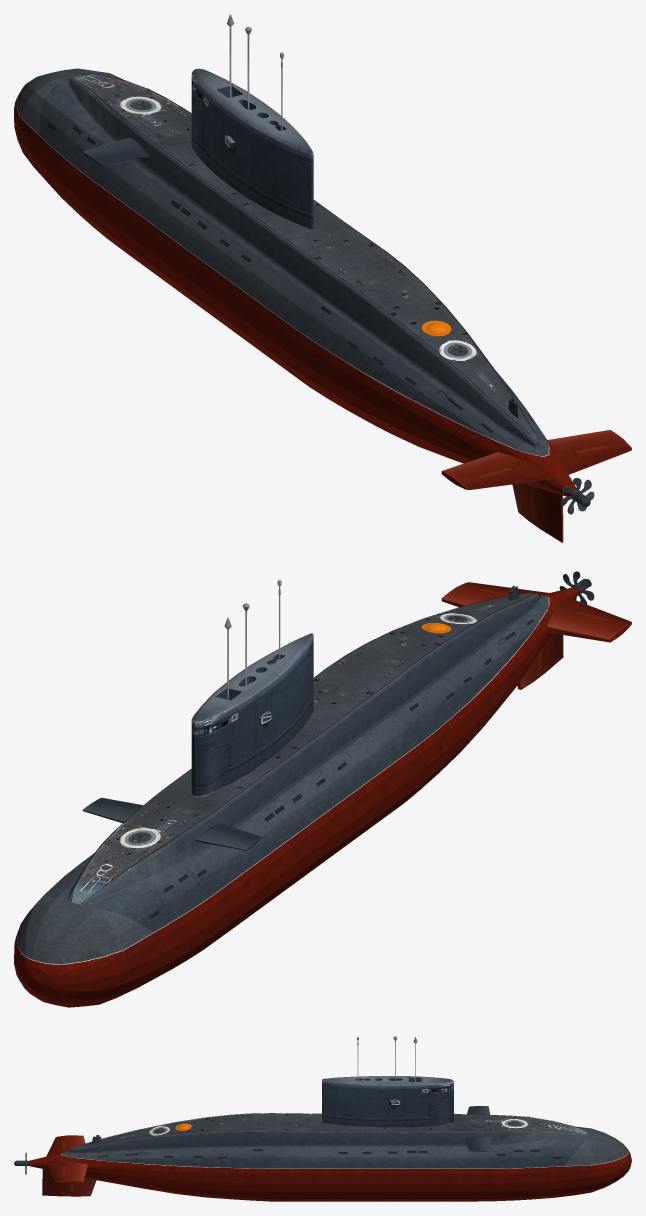
Rendered from submarine.dae.
3 views of the same model, one above another, from view 1: azimuth 30°, elevation 25°; view 2: azimuth 150°, elevation 25°; view 3: azimuth 270°, elevation 25° (orthographic). The views are drawn at different scales.
Visible parts, largest first — view 1: Box02; view 2: Box02; view 3: Box02.
Part boxes in pixels (x1,y1,x2,y2): Box02: [14, 14, 631, 542]; Box02: [14, 571, 631, 1007]; Box02: [14, 1036, 631, 1201].
Bounding box in the file's own units: 1.3 × 7.38 × 2.12.
